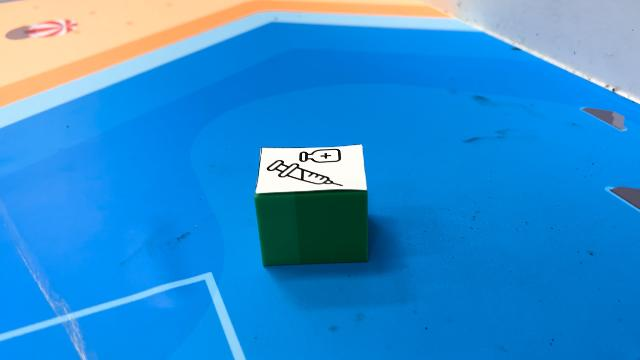syringe: (254, 144, 368, 266)
